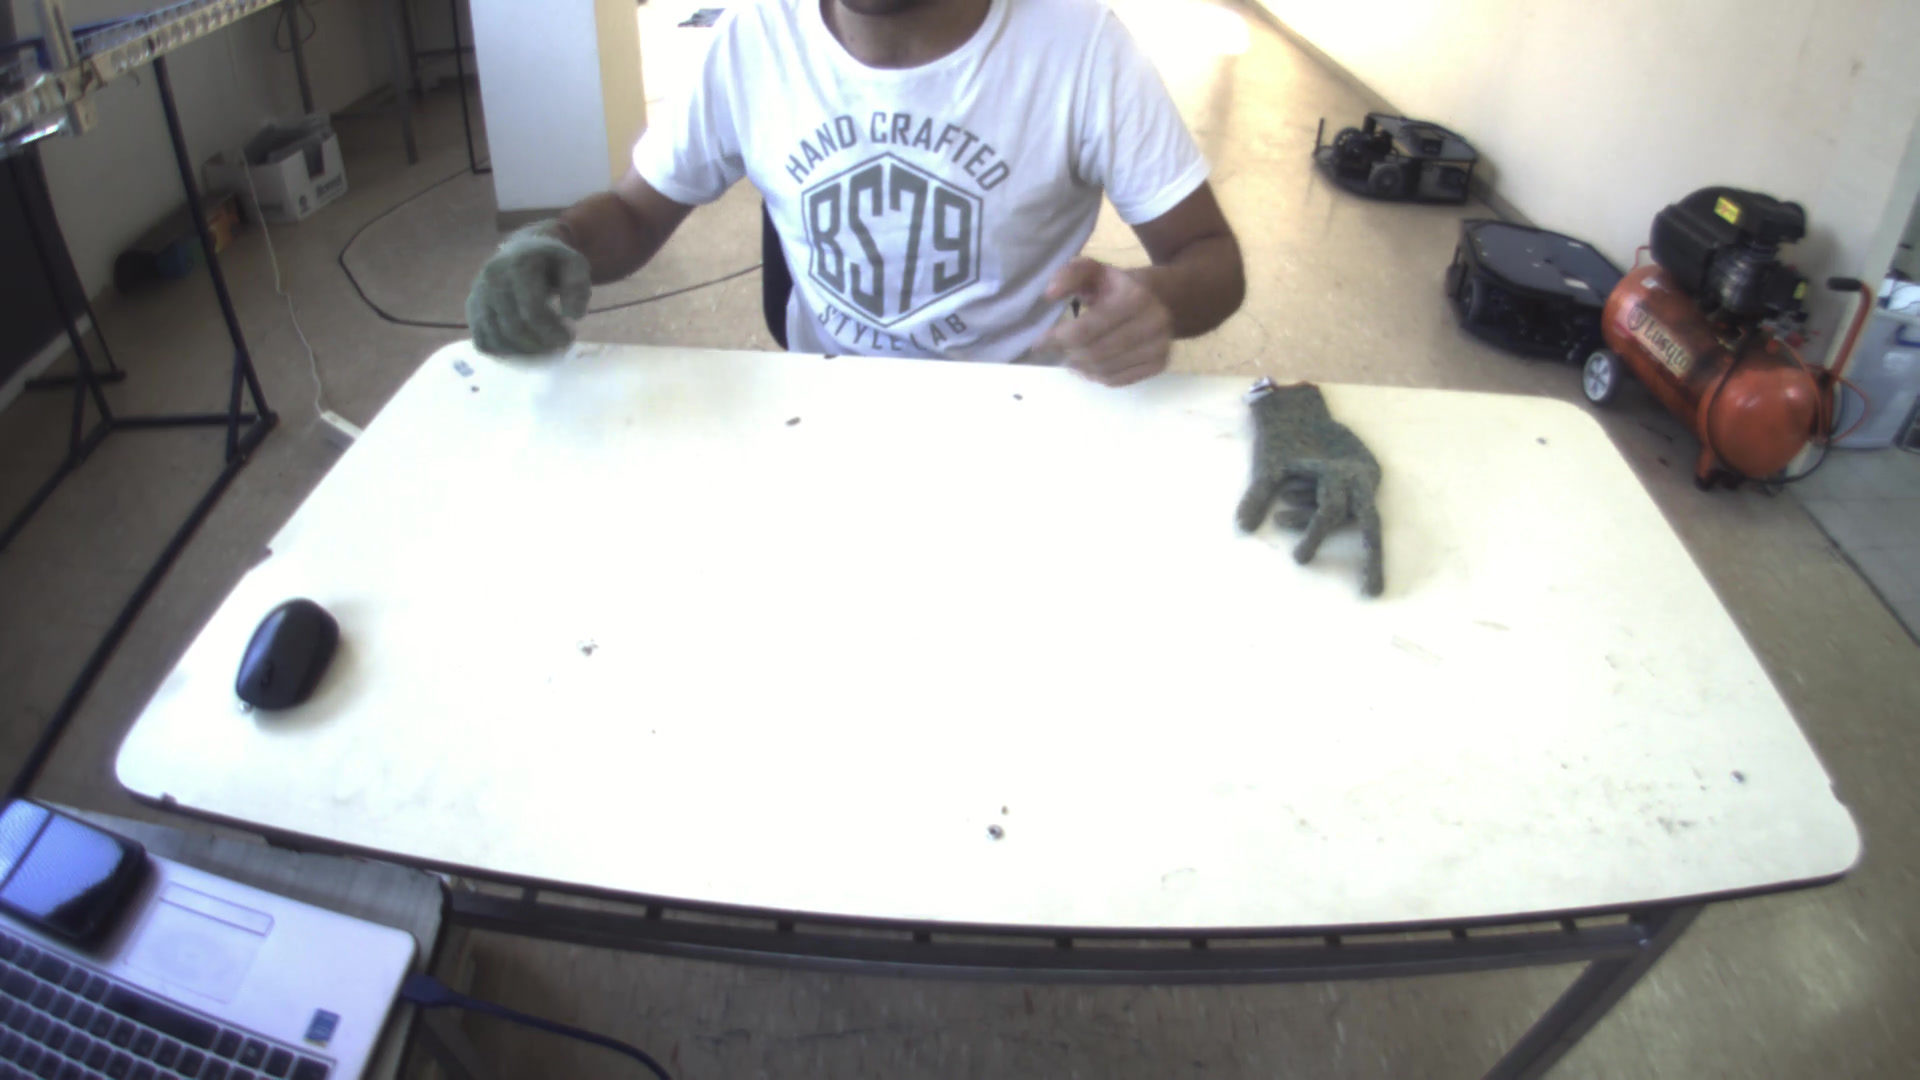hand: (1019, 247, 1187, 388), (447, 216, 593, 357)
